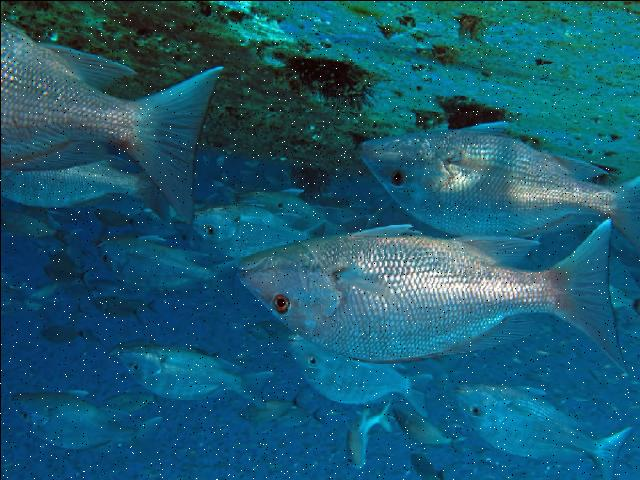Mulut: (229, 236, 283, 298), (347, 122, 408, 170), (444, 372, 484, 412), (102, 333, 136, 373)
Sirip Anal: (34, 30, 140, 102), (452, 226, 550, 278), (544, 142, 616, 192)
Sirip Dada: (326, 248, 406, 313), (433, 136, 507, 184)
Sirip Ekor: (123, 53, 251, 245), (528, 207, 640, 391), (574, 418, 640, 480), (389, 362, 441, 428), (234, 364, 284, 416)
Sirip Perut: (332, 208, 428, 250), (444, 100, 522, 146)
Sirip Punggung: (343, 306, 551, 368), (1, 128, 118, 182)
